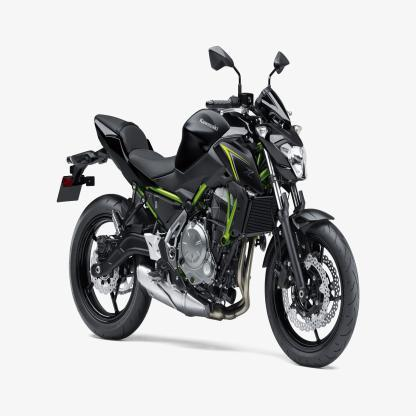Motorcycle: (53, 30, 361, 373)
